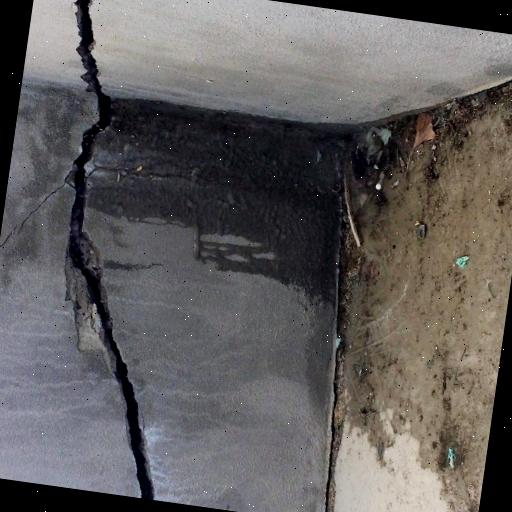spalling: (57, 0, 165, 494), (6, 182, 54, 251)
